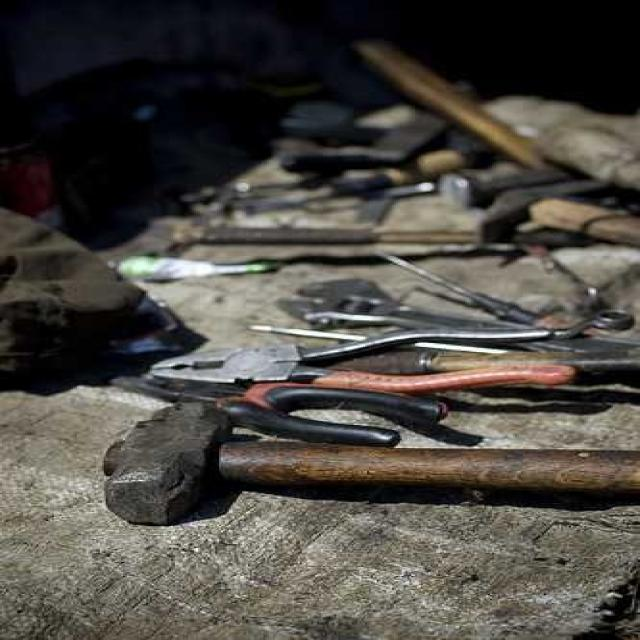hammer: (86, 384, 640, 536)
